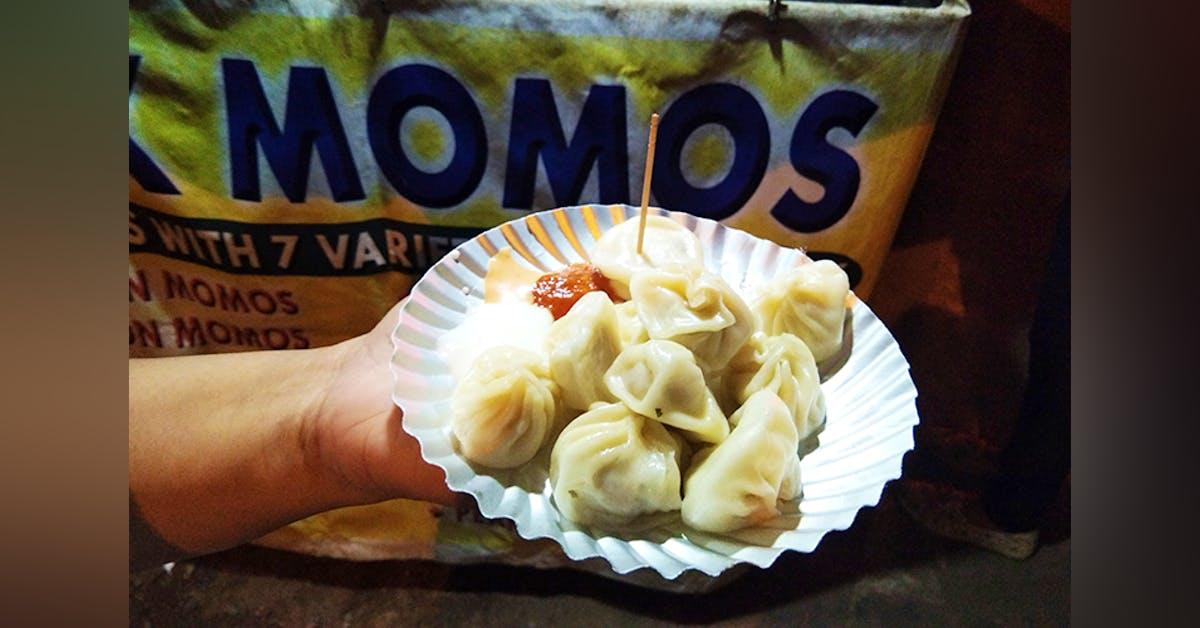momos: (682, 389, 802, 532), (551, 403, 682, 529), (452, 345, 565, 469), (630, 267, 755, 376), (607, 340, 729, 443), (724, 333, 825, 437), (752, 260, 846, 362), (548, 291, 623, 410)
